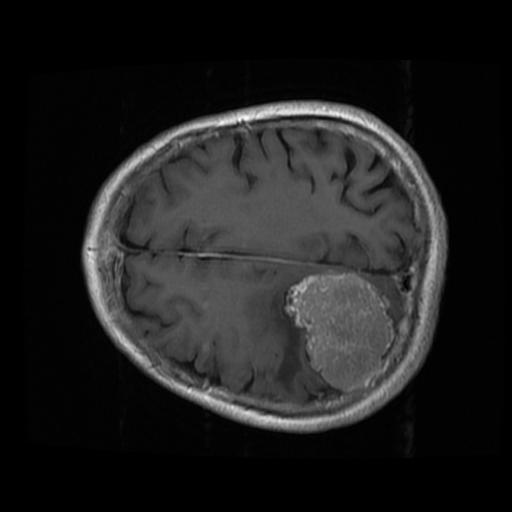meningioma: (282, 274, 393, 390)
